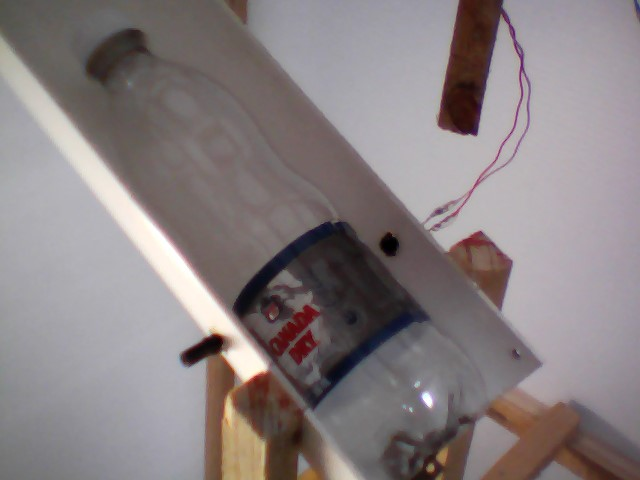plastico: (66, 1, 493, 479)
